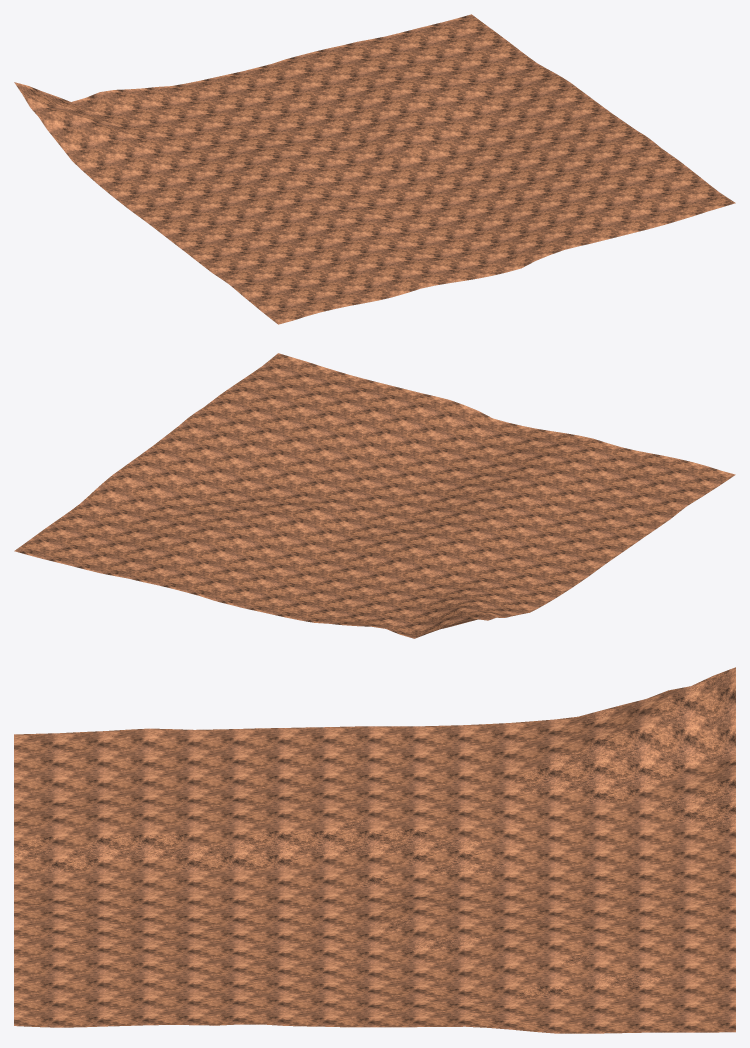
The model's file is terrain_04_14.dae.
3 renders of one model, top to bottom at view 1: azimuth 30°, elevation 25°; view 2: azimuth 150°, elevation 25°; view 3: azimuth 270°, elevation 25°, orthographic. The views are drawn at different scales.
Visible parts, largest first — view 1: terrain_04_14-node; view 2: terrain_04_14-node; view 3: terrain_04_14-node.
Boxes of the visible parts, bbox=[...] form: terrain_04_14-node: bbox=[14, 14, 735, 324]; terrain_04_14-node: bbox=[14, 353, 735, 638]; terrain_04_14-node: bbox=[14, 667, 735, 1033].
Size of the model in its own units: 128 by 128 by 14.1.
Materials: 1 (1 with a texture image).
